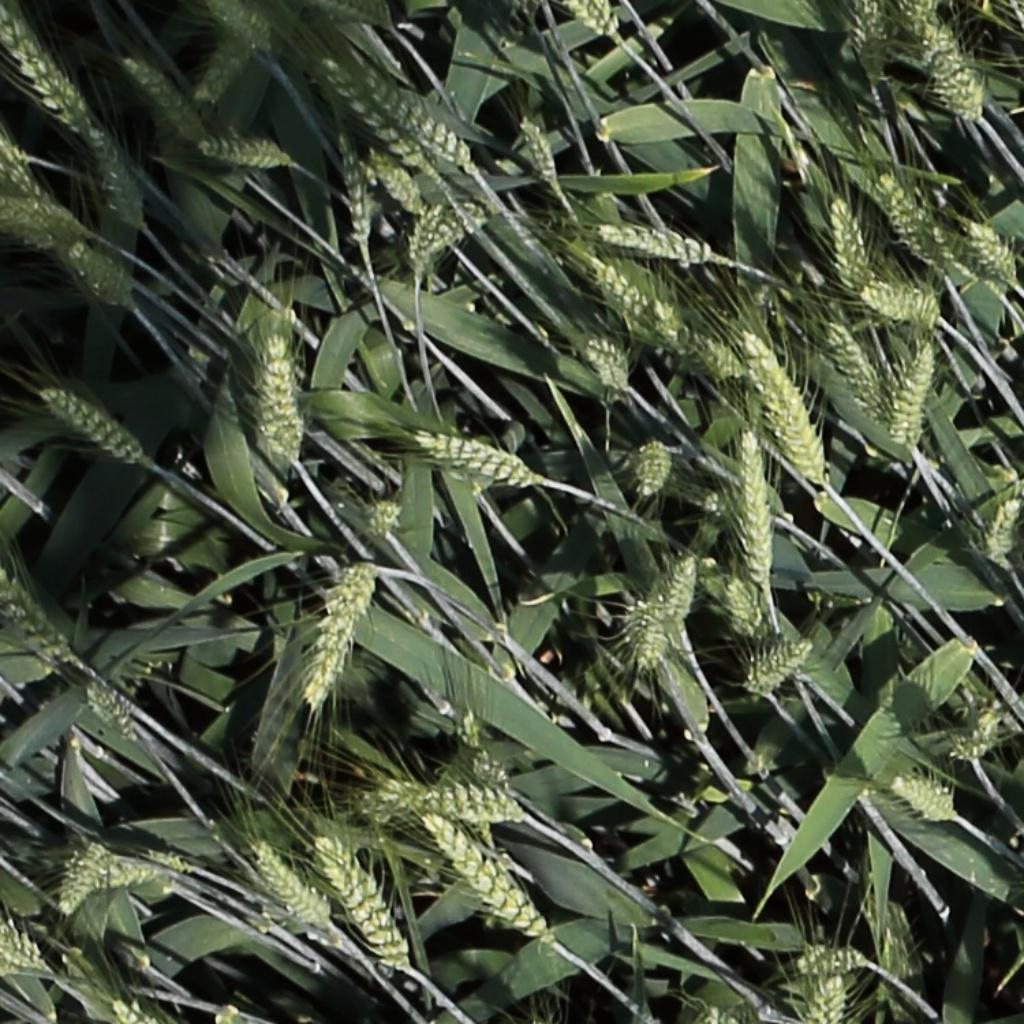0-0: (417, 815, 550, 946), (742, 330, 826, 491), (311, 836, 408, 972), (312, 57, 425, 173), (304, 554, 382, 709), (374, 59, 490, 156), (888, 0, 980, 112), (438, 700, 514, 819), (241, 835, 329, 933), (364, 770, 522, 824), (10, 30, 90, 136), (39, 386, 140, 464), (404, 195, 491, 282), (0, 126, 72, 231), (117, 54, 202, 140), (687, 324, 772, 409), (738, 424, 783, 584), (592, 259, 682, 338), (260, 329, 308, 476), (821, 316, 886, 423), (80, 118, 143, 228), (872, 165, 937, 266), (415, 432, 533, 486), (0, 580, 72, 662), (632, 563, 684, 673), (851, 0, 908, 95), (890, 338, 935, 450), (0, 196, 97, 247), (361, 141, 425, 217), (196, 126, 293, 175), (57, 845, 122, 914), (827, 191, 868, 299), (65, 240, 131, 307), (98, 851, 193, 897), (962, 214, 1021, 288), (596, 223, 708, 260), (744, 641, 813, 699), (79, 679, 137, 746), (513, 109, 562, 188), (338, 140, 371, 249), (720, 573, 767, 647), (948, 705, 1003, 765), (208, 0, 268, 53), (985, 490, 1024, 567), (660, 551, 697, 632), (794, 936, 863, 978), (891, 778, 955, 823), (581, 337, 629, 395), (860, 285, 939, 319), (1, 921, 46, 973), (565, 1, 617, 43), (636, 432, 667, 502), (809, 968, 843, 1024), (106, 998, 147, 1024)
